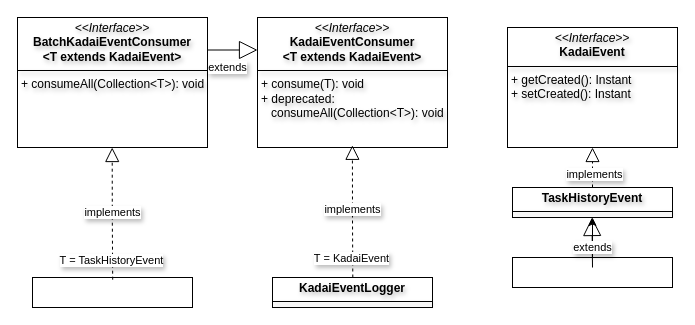
The diagram is 695 pixels wide and 325 high, and some of its shapes have lost their labels. Each missing label, with the centre of its shape:
TaskDeleted Event: point 592,272
TaskHistoryEventConsumer: point 112,292
